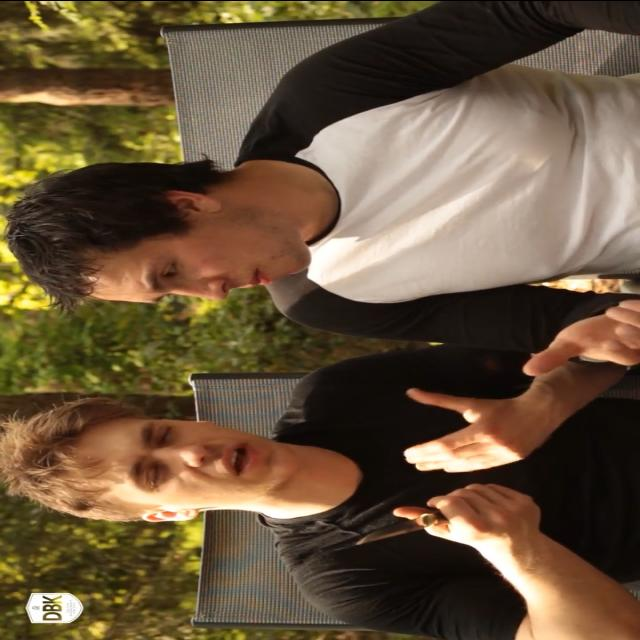Sharp-Object: (340, 480, 508, 554)
